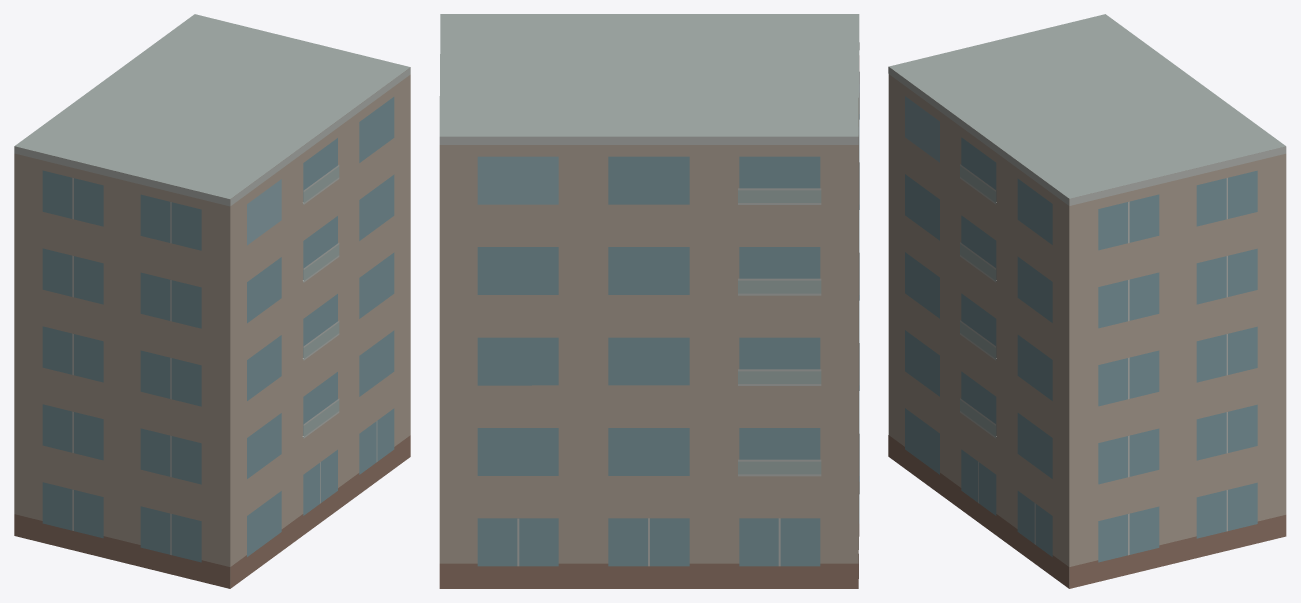
The model's file is survey-upis-33044299.glb.
3 renders of one model, left to right at view 1: azimuth 30°, elevation 25°; view 2: azimuth 150°, elevation 25°; view 3: azimuth 270°, elevation 25°, orthographic. The views are drawn at different scales.
Parts seen in each view (by area): view 1: survey-upis-33044299.tmp; view 2: survey-upis-33044299.tmp; view 3: survey-upis-33044299.tmp.
Boxes of the visible parts, x1,y1,x2,y2 form: survey-upis-33044299.tmp: (14,14,410,588); survey-upis-33044299.tmp: (439,14,859,588); survey-upis-33044299.tmp: (888,14,1286,588).
Bounding box in the file's own units: 13.28 × 13.06 × 12.08.
